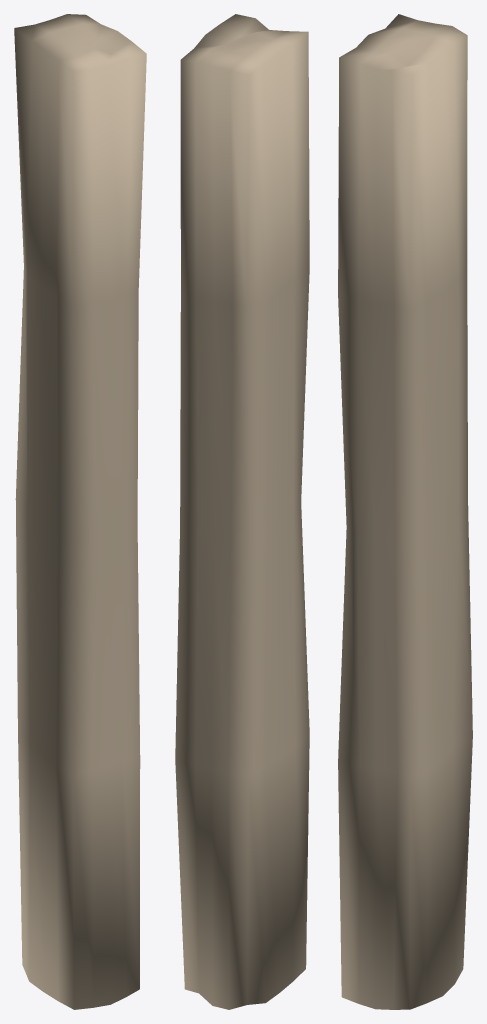
File: rock_monolith_large.glb
The picture shows the model from 3 angles, left to right: view 1: azimuth 30°, elevation 25°; view 2: azimuth 150°, elevation 25°; view 3: azimuth 330°, elevation 25°; orthographic projection.
Visible parts, largest first — view 1: RockMonolith_large; view 2: RockMonolith_large; view 3: RockMonolith_large.
Boxes of the visible parts, x1=… form: RockMonolith_large: x1=14, y1=14, x2=146, y2=1009; RockMonolith_large: x1=175, y1=14, x2=309, y2=1009; RockMonolith_large: x1=338, y1=14, x2=472, y2=1009.
Size of the model in its own units: 57.5 by 668 by 79.5.
